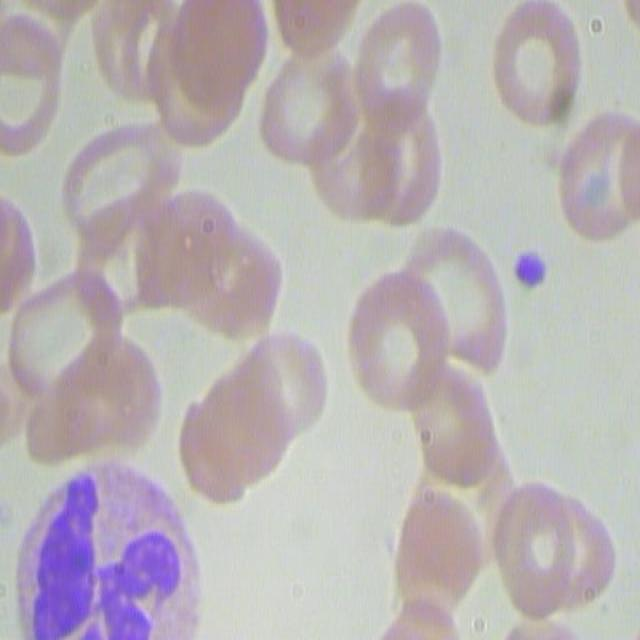RBC: (182, 328, 311, 503), (314, 65, 448, 228), (146, 184, 278, 343), (488, 483, 616, 621), (148, 0, 258, 159), (412, 220, 514, 388), (341, 259, 447, 416), (59, 121, 178, 257), (5, 272, 119, 402), (411, 363, 510, 511), (484, 0, 587, 133), (59, 333, 163, 464), (390, 479, 485, 611), (553, 105, 640, 247), (349, 0, 446, 122), (258, 56, 355, 172), (0, 0, 65, 161), (88, 1, 177, 104), (269, 0, 369, 55), (0, 185, 31, 324)
WBC: (16, 457, 216, 640)
platelets: (508, 245, 550, 297)
